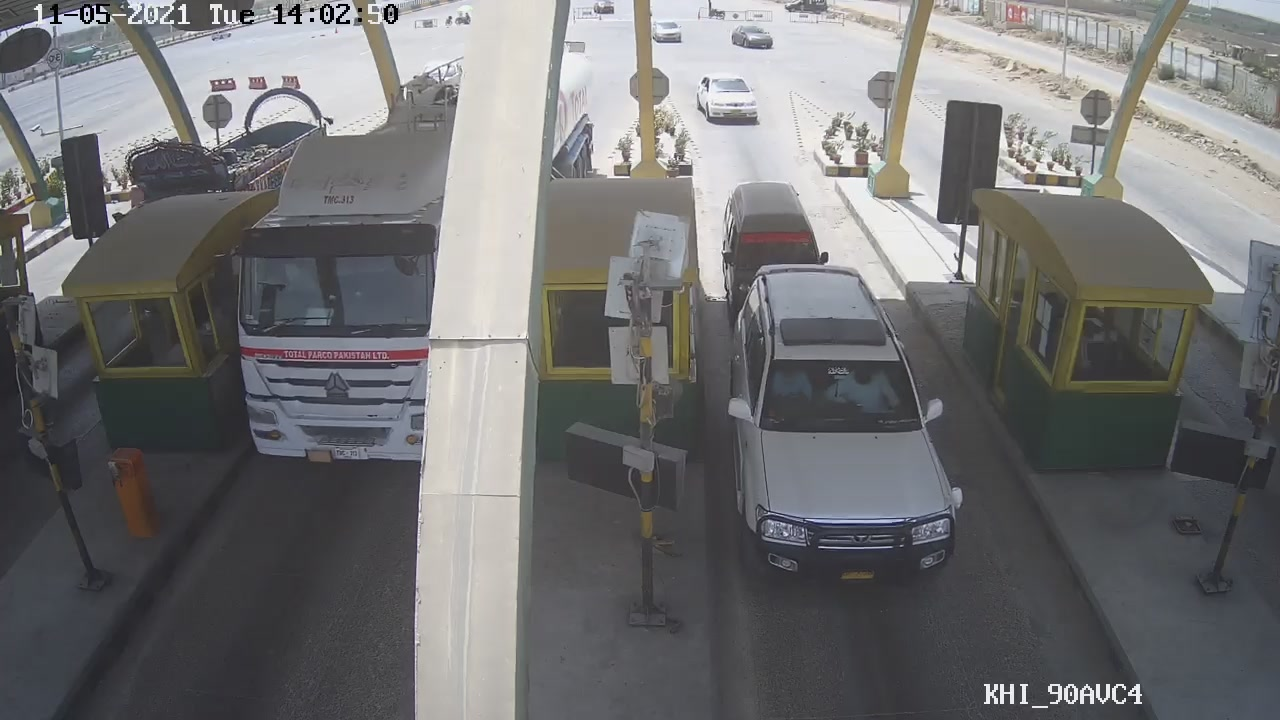F1: (722, 264, 959, 608)
